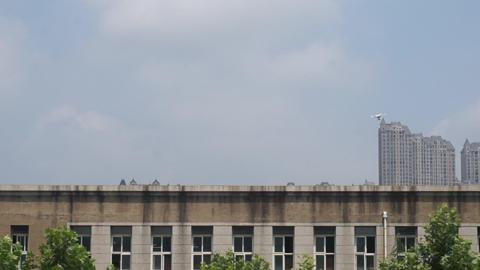UAV: (370, 113, 387, 122)
